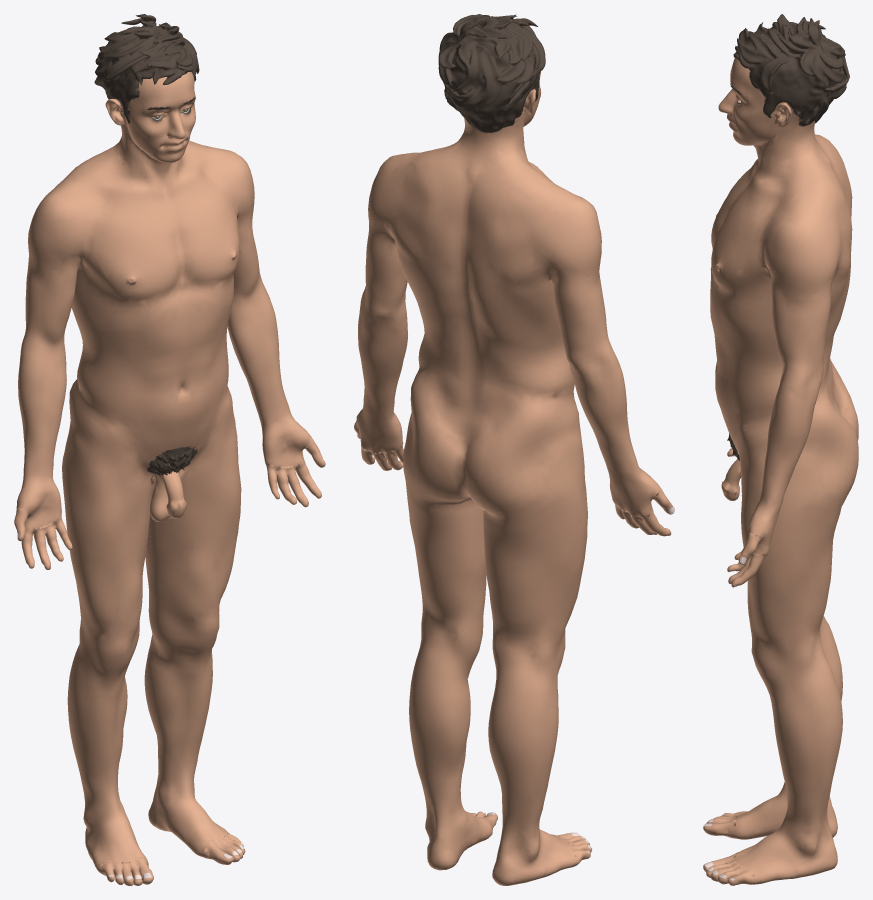
Rendered from skin.glb.
3 views of the same model, side by side, from view 1: azimuth 30°, elevation 25°; view 2: azimuth 150°, elevation 25°; view 3: azimuth 270°, elevation 25° (orthographic). The views are drawn at different scales.
Parts seen in each view (by area): view 1: SKN.anterior_region_of_thigh.R, SKN.anterior_region_of_thigh.L, SKN.hairs_of_head.C, SKN.anterior_region_of_leg.L, SKN.anterior_region_of_leg.R, SKN.pectoral_region.R, SKN.deltoid_region.R, SKN.anterior_region_of_forearm.L, SKN.anterior_region_of_forearm.R, SKN.lateral_region_of_thorax.R, SKN.lateral_region_of_abdomen.R, SKN.pectoral_region.L (+46 smaller); view 2: SKN.posterior_region_of_thigh.R, SKN.hairs_of_head.C, SKN.gluteal_region.R, SKN.posterior_region_of_thigh.L, SKN.posterior_region_of_leg.R, SKN.posterior_region_of_leg.L, SKN.gluteal_region.L, SKN.scapular_region.R, SKN.posterior_region_of_arm.R, SKN.infrascapular_region.R, SKN.scapular_region.L, SKN.posterior_region_of_forearm.R (+32 smaller); view 3: SKN.hairs_of_head.C, SKN.anterior_region_of_thigh.L, SKN.posterior_region_of_thigh.L, SKN.deltoid_region.L, SKN.gluteal_region.L, SKN.posterior_region_of_leg.L, SKN.lateral_region_of_thorax.L, SKN.anterior_region_of_leg.L, SKN.lateral_region_of_abdomen.L, SKN.pectoral_region.L, SKN.posterior_region_of_arm.L, SKN.posterior_region_of_neck.L (+45 smaller).
Boxes of the visible parts, bbox=[...] form: SKN.anterior_region_of_thigh.R: bbox=[69, 382, 154, 636]; SKN.anterior_region_of_thigh.L: bbox=[150, 384, 241, 615]; SKN.hairs_of_head.C: bbox=[94, 14, 199, 123]; SKN.anterior_region_of_leg.L: bbox=[153, 654, 212, 780]; SKN.anterior_region_of_leg.R: bbox=[74, 674, 127, 799]; SKN.pectoral_region.R: bbox=[94, 205, 174, 302]; SKN.deltoid_region.R: bbox=[28, 174, 90, 271]; SKN.anterior_region_of_forearm.L: bbox=[228, 304, 292, 425]; SKN.anterior_region_of_forearm.R: bbox=[22, 360, 66, 481]; SKN.lateral_region_of_thorax.R: bbox=[71, 225, 147, 333]; SKN.lateral_region_of_abdomen.R: bbox=[77, 342, 147, 422]; SKN.pectoral_region.L: bbox=[183, 179, 238, 284]; SKN.posterior_region_of_thigh.R: bbox=[483, 496, 579, 640]; SKN.hairs_of_head.C: bbox=[438, 14, 545, 133]; SKN.gluteal_region.R: bbox=[462, 392, 567, 518]; SKN.posterior_region_of_thigh.L: bbox=[404, 472, 485, 624]; SKN.posterior_region_of_leg.R: bbox=[488, 688, 555, 830]; SKN.posterior_region_of_leg.L: bbox=[409, 667, 468, 813]; SKN.gluteal_region.L: bbox=[403, 360, 470, 501]; SKN.scapular_region.R: bbox=[486, 191, 559, 287]; SKN.posterior_region_of_arm.R: bbox=[543, 242, 606, 348]; SKN.infrascapular_region.R: bbox=[475, 274, 545, 354]; SKN.scapular_region.L: bbox=[379, 164, 436, 266]; SKN.posterior_region_of_forearm.R: bbox=[570, 368, 640, 475]; SKN.hairs_of_head.C: bbox=[733, 14, 849, 126]; SKN.anterior_region_of_thigh.L: bbox=[738, 407, 787, 646]; SKN.posterior_region_of_thigh.L: bbox=[783, 506, 841, 645]; SKN.deltoid_region.L: bbox=[763, 197, 834, 297]; SKN.gluteal_region.L: bbox=[798, 395, 858, 509]; SKN.posterior_region_of_leg.L: bbox=[798, 679, 842, 822]; SKN.lateral_region_of_thorax.L: bbox=[715, 229, 846, 343]; SKN.anterior_region_of_leg.L: bbox=[770, 696, 806, 822]; SKN.lateral_region_of_abdomen.L: bbox=[723, 347, 782, 414]; SKN.pectoral_region.L: bbox=[711, 197, 769, 291]; SKN.posterior_region_of_arm.L: bbox=[799, 248, 839, 364]; SKN.posterior_region_of_neck.L: bbox=[784, 120, 834, 199].
Bounding box in the file's own units: 0.6801 × 1.74 × 0.294.
